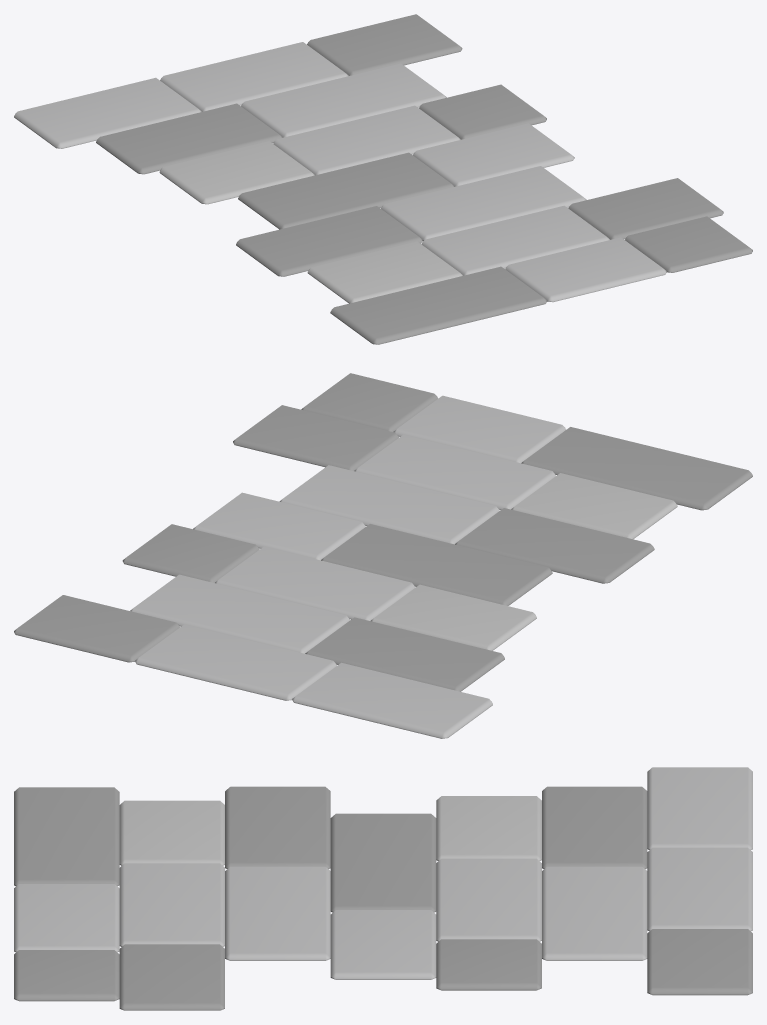
The model's file is Town_18_Path_1.glb.
The picture shows the model from 3 angles, top to bottom: view 1: azimuth 30°, elevation 25°; view 2: azimuth 150°, elevation 25°; view 3: azimuth 270°, elevation 25°; orthographic projection. The views are drawn at different scales.
Visible parts, largest first — view 1: Town_18_Path_1; view 2: Town_18_Path_1; view 3: Town_18_Path_1.
Boxes of the visible parts, x1=… form: Town_18_Path_1: x1=14, y1=14, x2=752, y2=344; Town_18_Path_1: x1=14, y1=373, x2=752, y2=738; Town_18_Path_1: x1=14, y1=767, x2=752, y2=1010.
Bounding box in the file's own units: 3.24 × 0.0362 × 4.22.
Materials: 1 (1 with a texture image).
